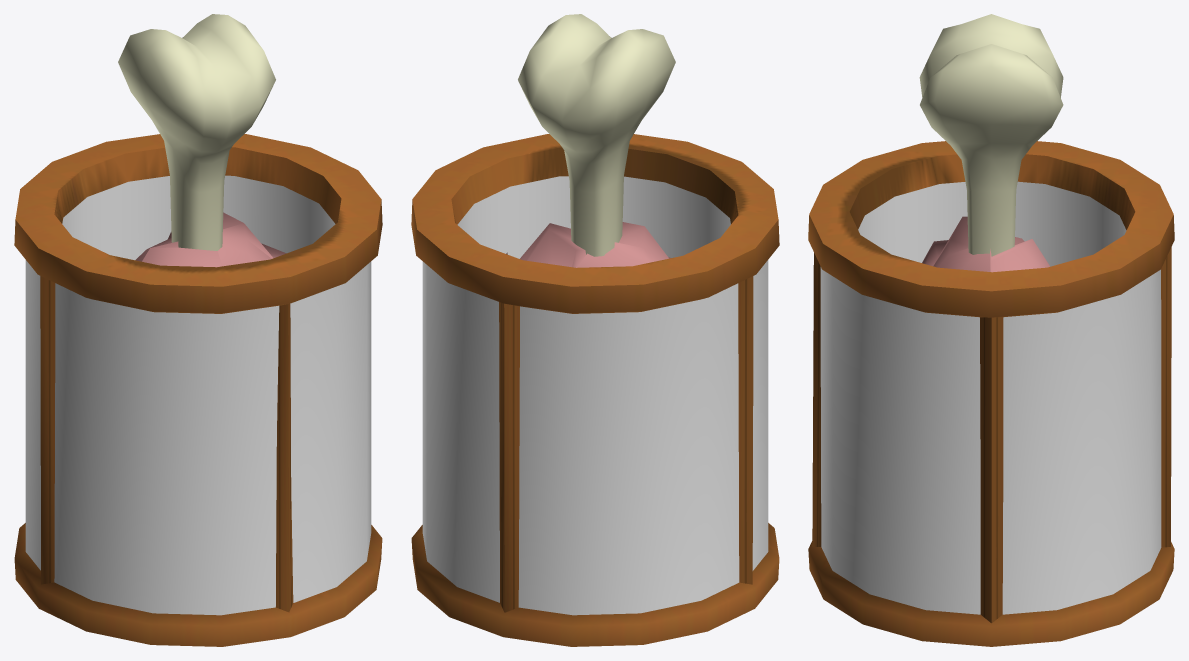
The model's file is Shark Berley Box.fbx.
3 renders of one model, left to right at view 1: azimuth 30°, elevation 25°; view 2: azimuth 150°, elevation 25°; view 3: azimuth 270°, elevation 25°, orthographic.
Parts seen in each view (by area): view 1: Box (1), Bone, Sphere; view 2: Box (1), Bone, Sphere; view 3: Box (1), Bone, Sphere.
Boxes of the visible parts, x1,y1,x2,y2 form: Box (1): [14, 134, 382, 646]; Bone: [118, 14, 275, 250]; Sphere: [135, 212, 286, 267]; Box (1): [411, 134, 779, 646]; Bone: [518, 14, 675, 256]; Sphere: [506, 222, 671, 267]; Box (1): [808, 141, 1174, 646]; Bone: [919, 14, 1063, 256]; Sphere: [922, 216, 1049, 272].
Bounding box in the file's own units: 0.8237 × 1.45 × 0.8237.
